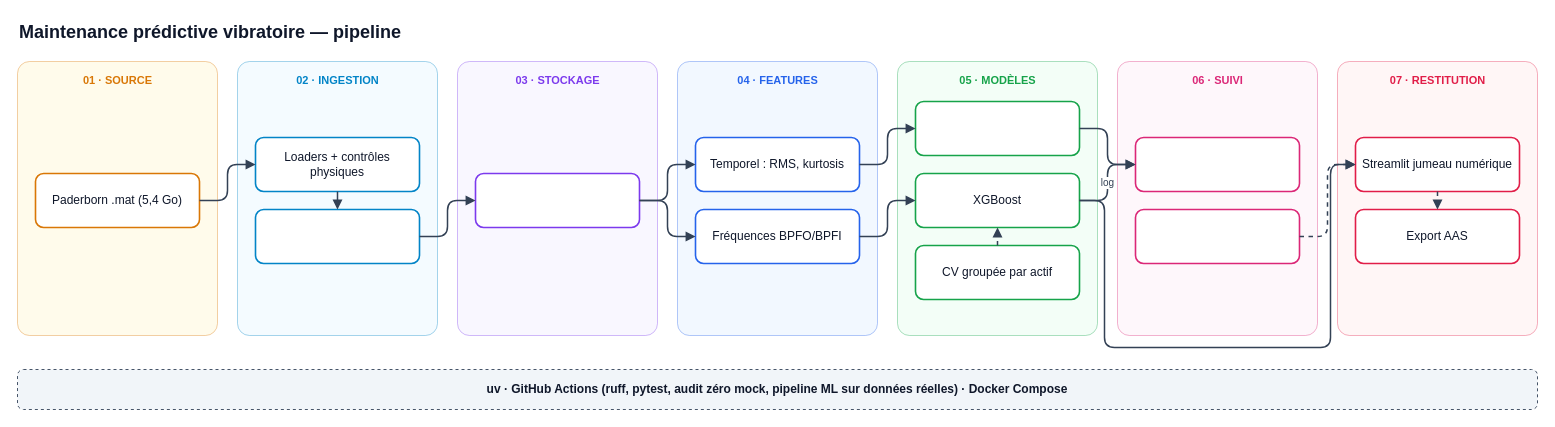
This 1555x427 diagram has some shape labels left out. Each missing label, with the centre of its shape:
"Evidently dérive" belongs at (x=1217, y=236).
"MLflow (Postgres)" belongs at (x=1217, y=164).
"Parquet" belongs at (x=337, y=236).
"Seuils (baseline)" belongs at (x=997, y=128).
"TimescaleDB (hypertable)" belongs at (x=557, y=200).
